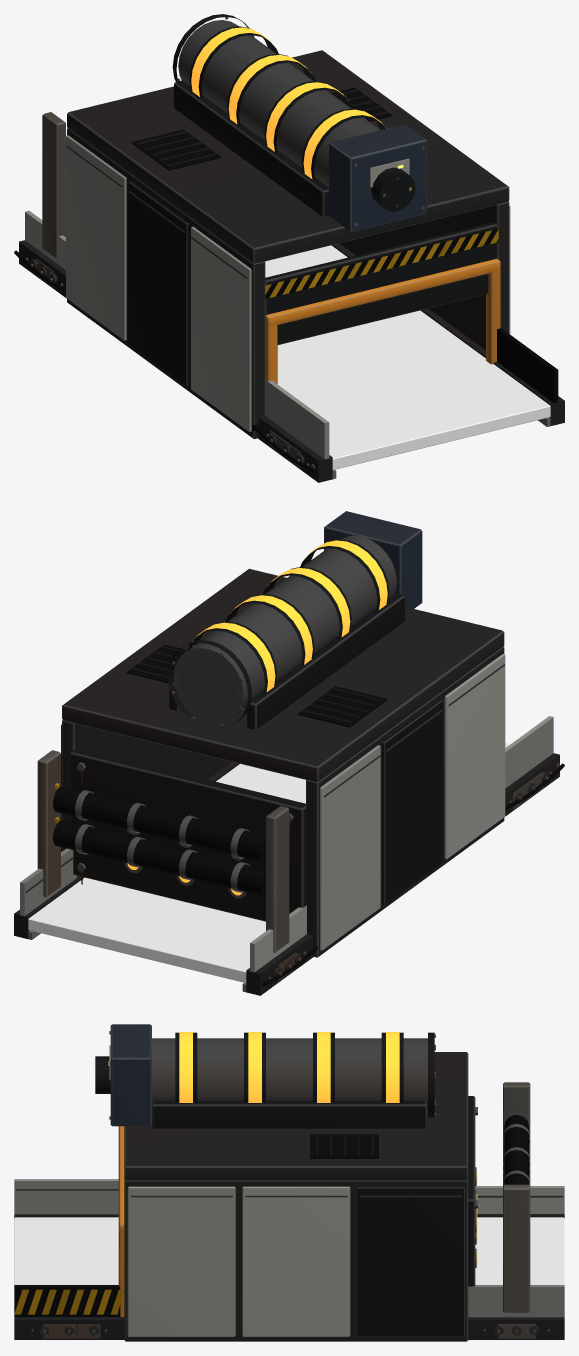
File: rod_extruder.glb
The picture shows the model from 3 angles, top to bottom: view 1: azimuth 30°, elevation 25°; view 2: azimuth 150°, elevation 25°; view 3: azimuth 270°, elevation 25°; orthographic projection. The views are drawn at different scales.
Visible parts, largest first — view 1: Frame, Belt, Screw; view 2: Frame, Belt, RollerA, RollerB; view 3: Frame, Belt, RollerB, Screw.
Boxes of the visible parts, <box> form: Frame: <box>14,14,564,482</box>; Belt: <box>265,245,550,469</box>; Screw: <box>371,167,415,211</box>; Frame: <box>14,511,564,995</box>; Belt: <box>28,743,509,982</box>; RollerA: <box>53,817,265,896</box>; RollerB: <box>53,783,265,862</box>; Frame: <box>14,1024,564,1341</box>; Belt: <box>14,1217,564,1284</box>; RollerB: <box>503,1115,529,1184</box>; Screw: <box>95,1056,110,1093</box>.
Bounding box in the file's own units: 2.03 × 2 × 4.
